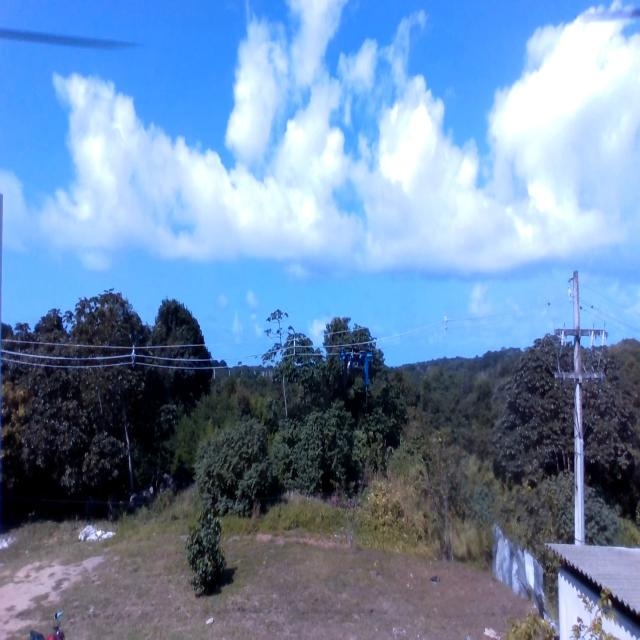-uav-: (331, 336, 378, 400)
